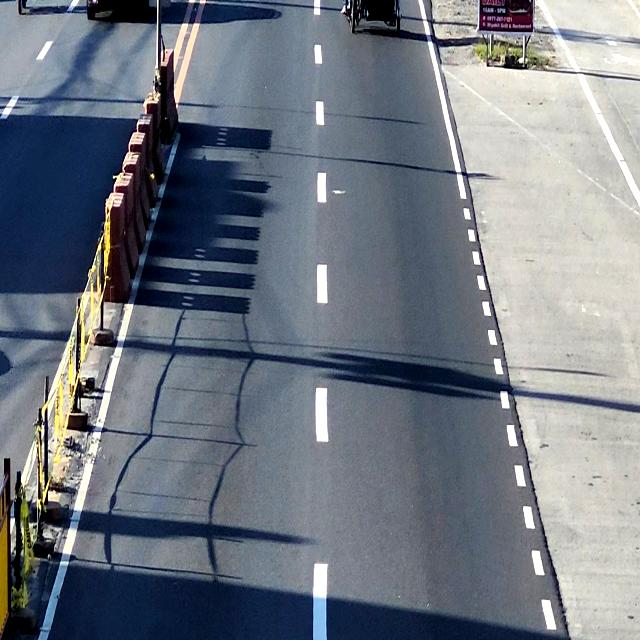Tricycle: (343, 0, 401, 38)
